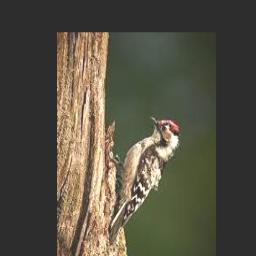Woodpecker: (110, 115, 181, 243)
